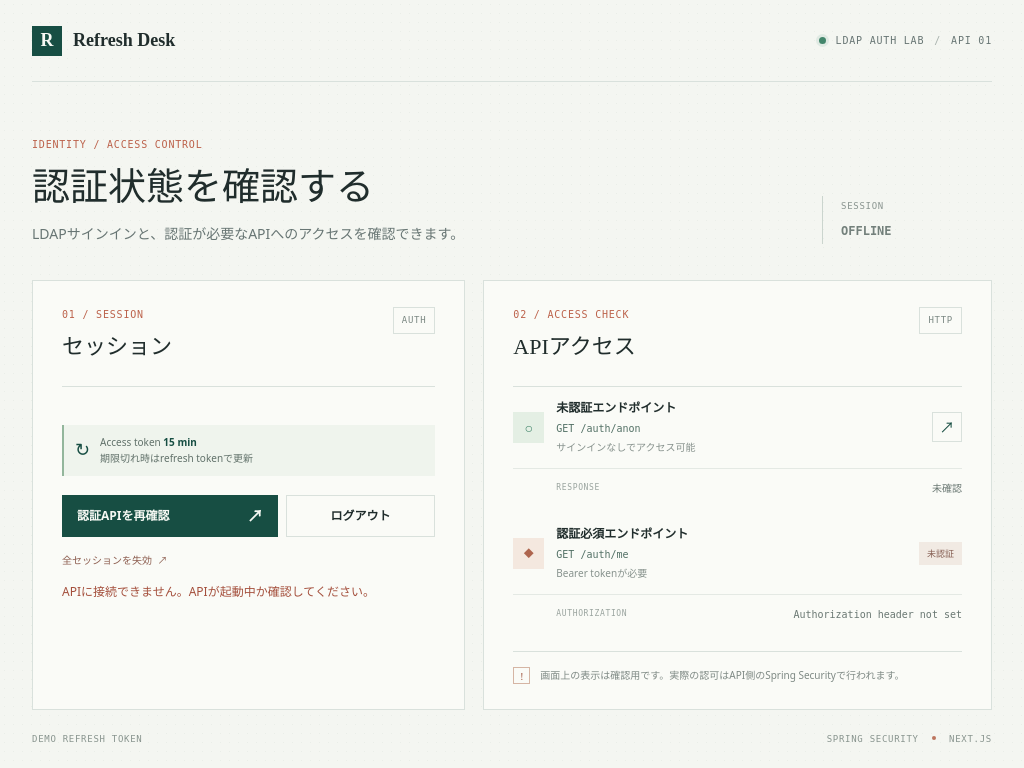
session recovery › retains session on offline and offers retry without userInfo
expect the text "OFFLINE" is shown: met, box [841,224,892,238]
expect the button "ログアウト" is shown: met, box [286,495,435,537]
Click the button "認証APIを再確認 ↗".
click(170, 516)  # box [62,495,278,537]
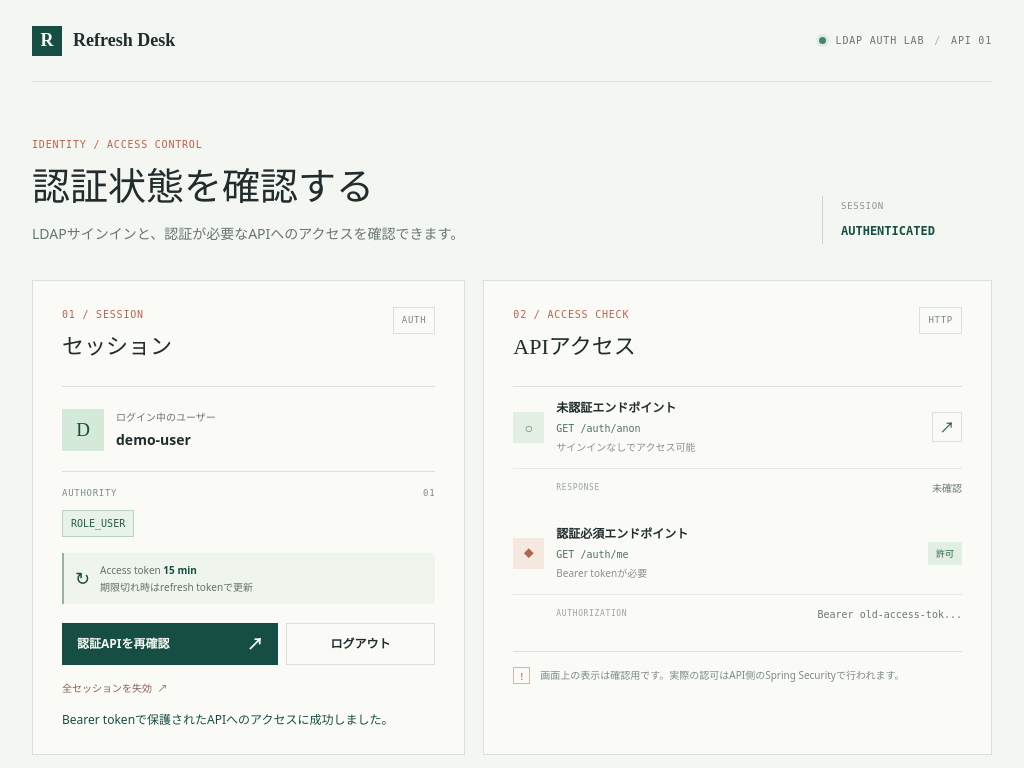
expect the text "AUTHENTICATED" is shown: met, box [841,224,935,238]
expect the text "demo-user" is shown: met, box [116,430,191,449]
